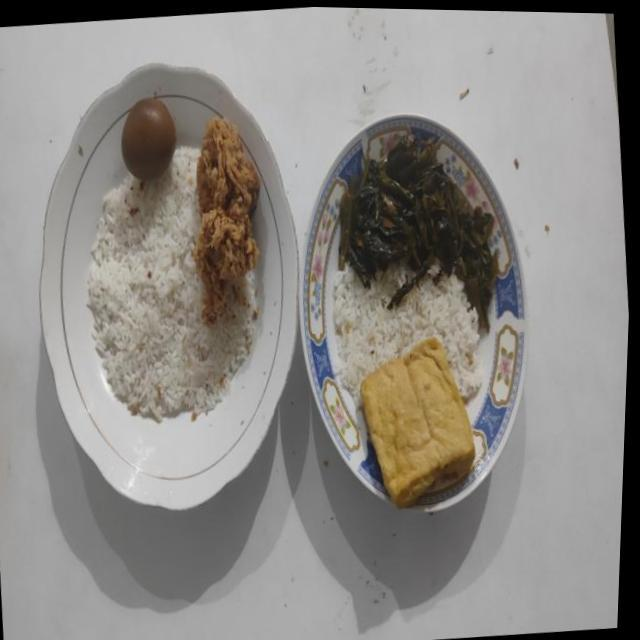nasi_putih: (86, 147, 258, 422), (331, 261, 482, 404)
tahu_goreng: (360, 336, 474, 506)
tumis_kangkung: (338, 130, 498, 331)
